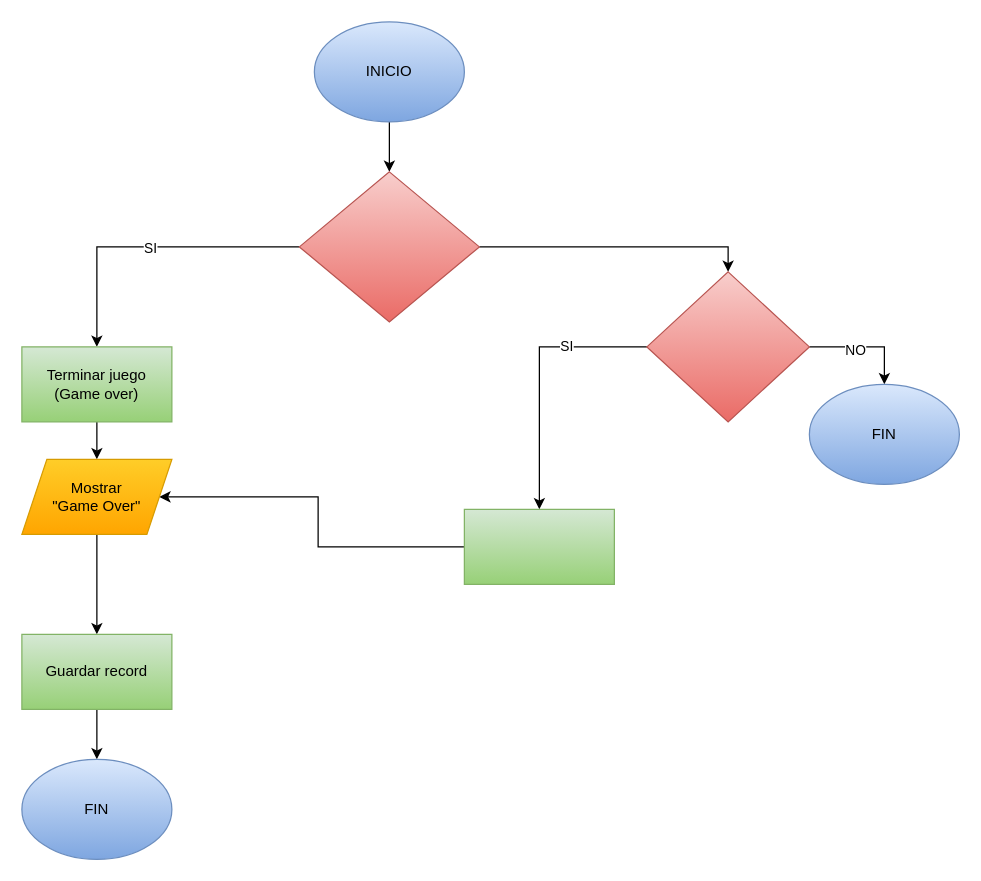
The diagram is 981 pixels wide and 881 high, and some of its shapes have lost their labels. Each missing label, with the centre of its shape:
"La cabeza choca con su cuerpo?" goes at (727,346).
"Terminar juego." goes at (538,546).
"¿La cabeza choca con una pared?" goes at (388,246).
